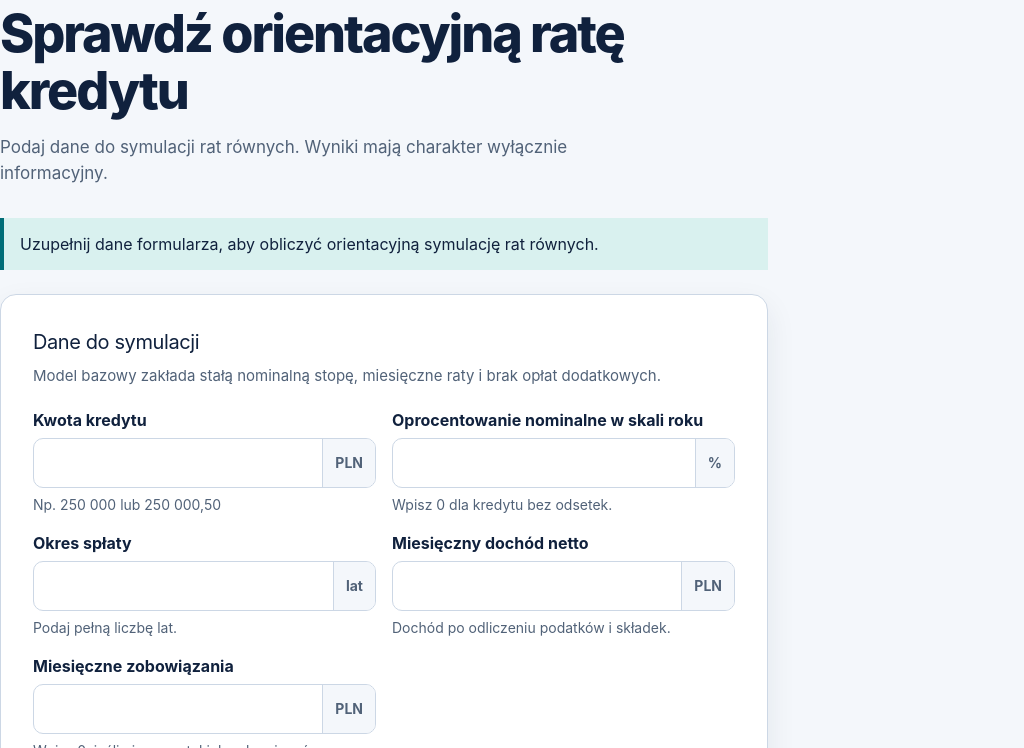
Test case: LoanCalculator › wyświetla sformatowane wyniki i przenosi fokus do ich nagłówka
Type "120000" into the field labelled "Kwota kredytu" at (178, 463), box [34,439,322,487]
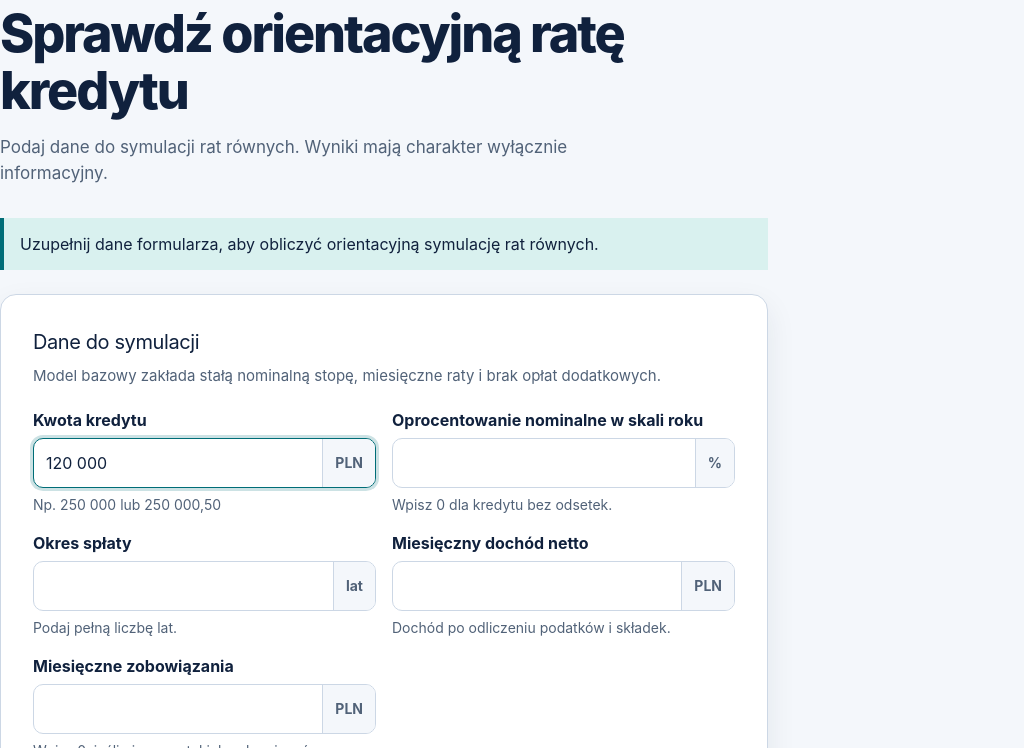
Type "6" into the field labelled "Oprocentowanie nominalne w skali roku" at (544, 463), box [393,439,695,487]
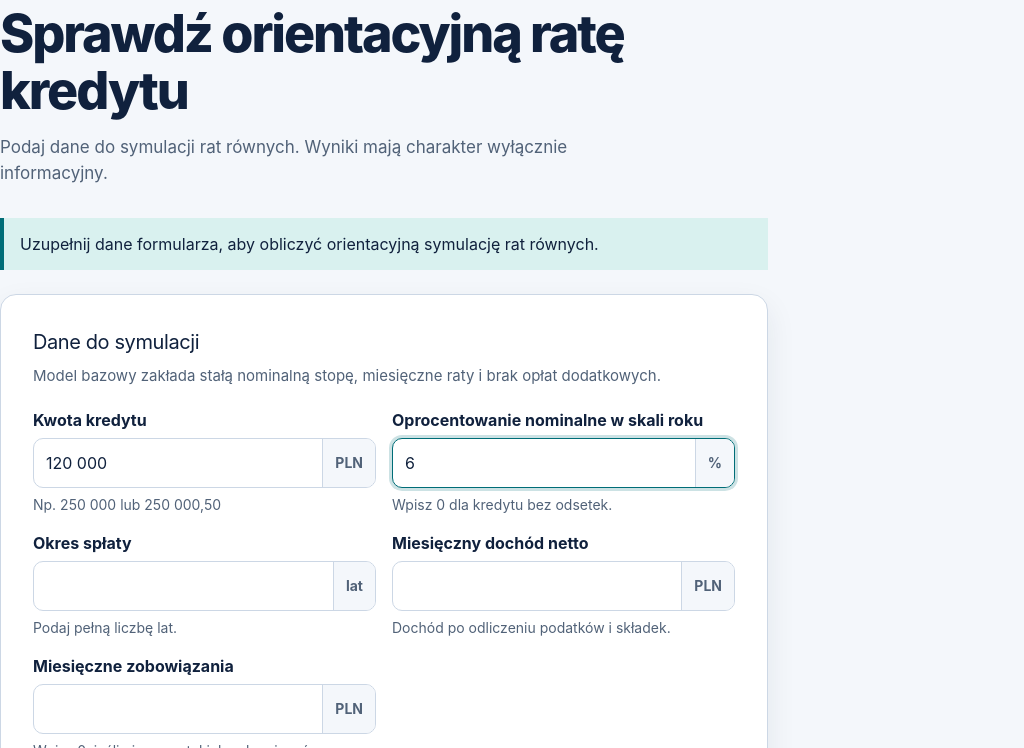
Type "1" into the field labelled "Okres spłaty" at (183, 586), box [34,562,333,610]
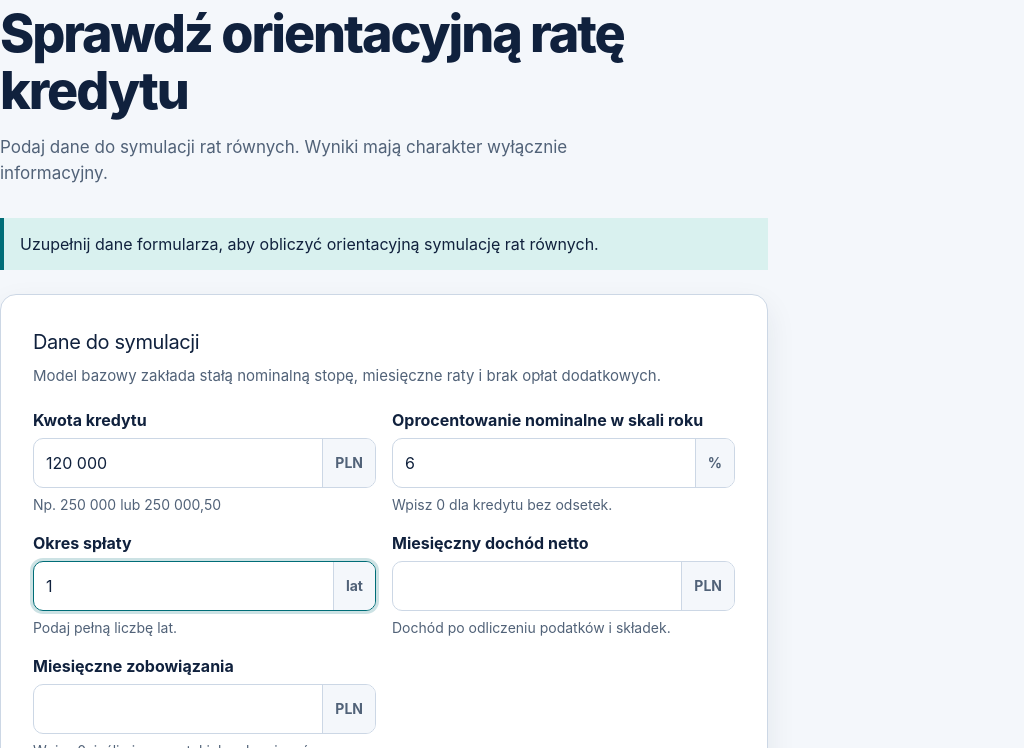
Type "10000" into the field labelled "Miesięczny dochód netto" at (537, 586), box [393,562,681,610]
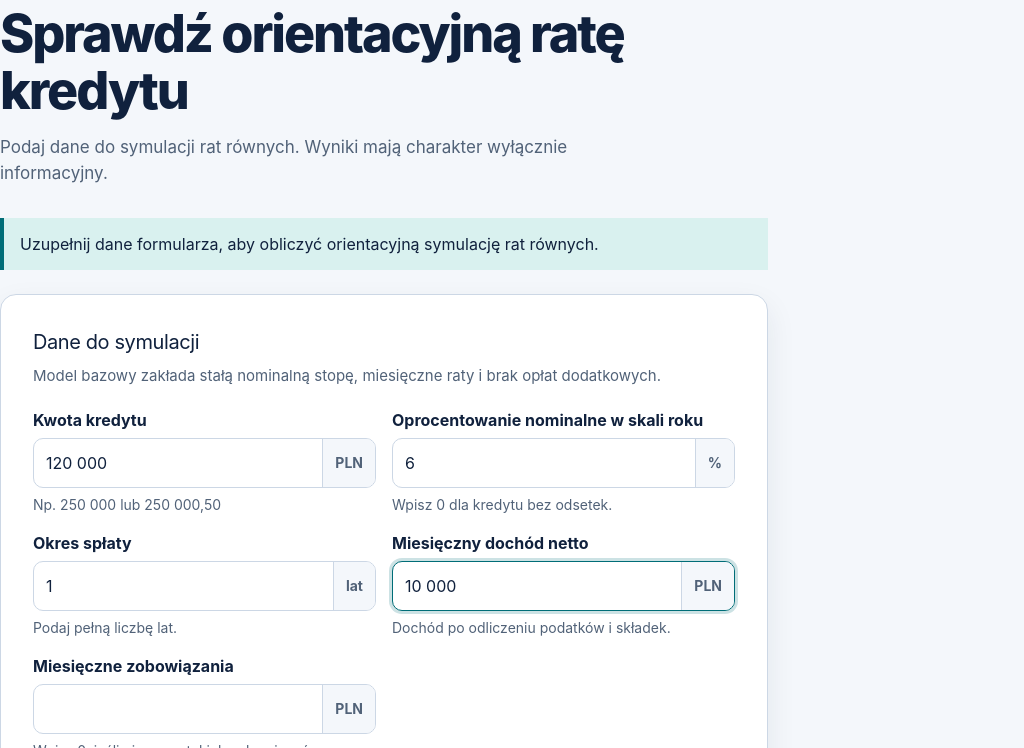
Type "1000" into the field labelled "Miesięczne zobowiązania" at (178, 709), box [34,685,322,733]
(page scrolled)
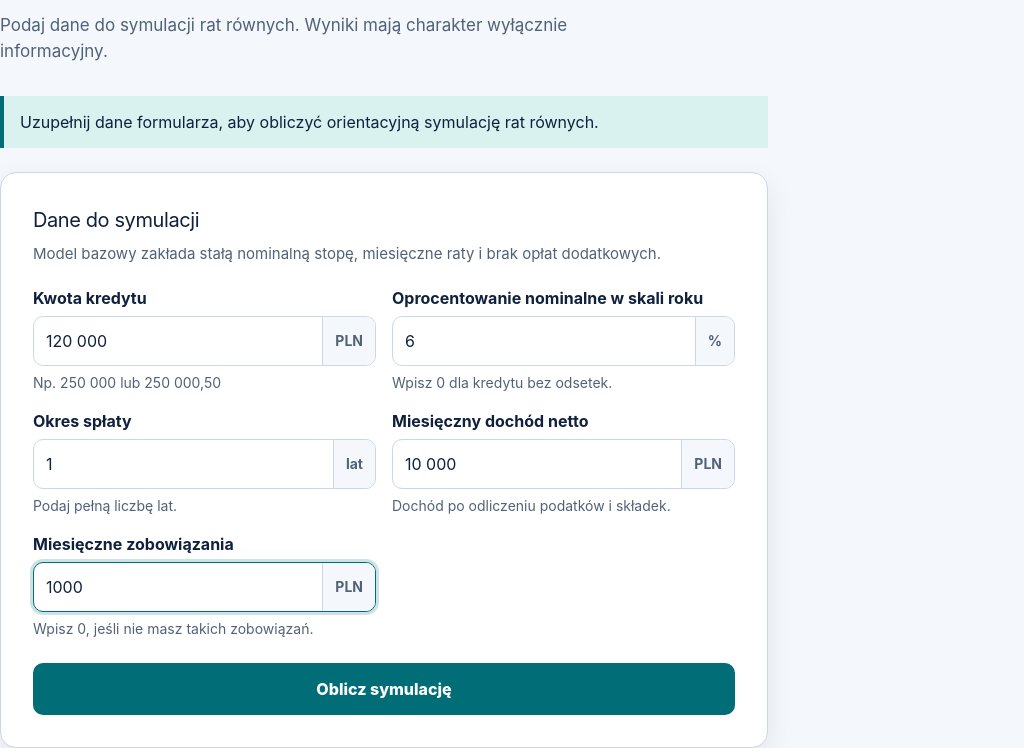
Click the button "Oblicz symulację" at (384, 689), box [33,663,735,715]
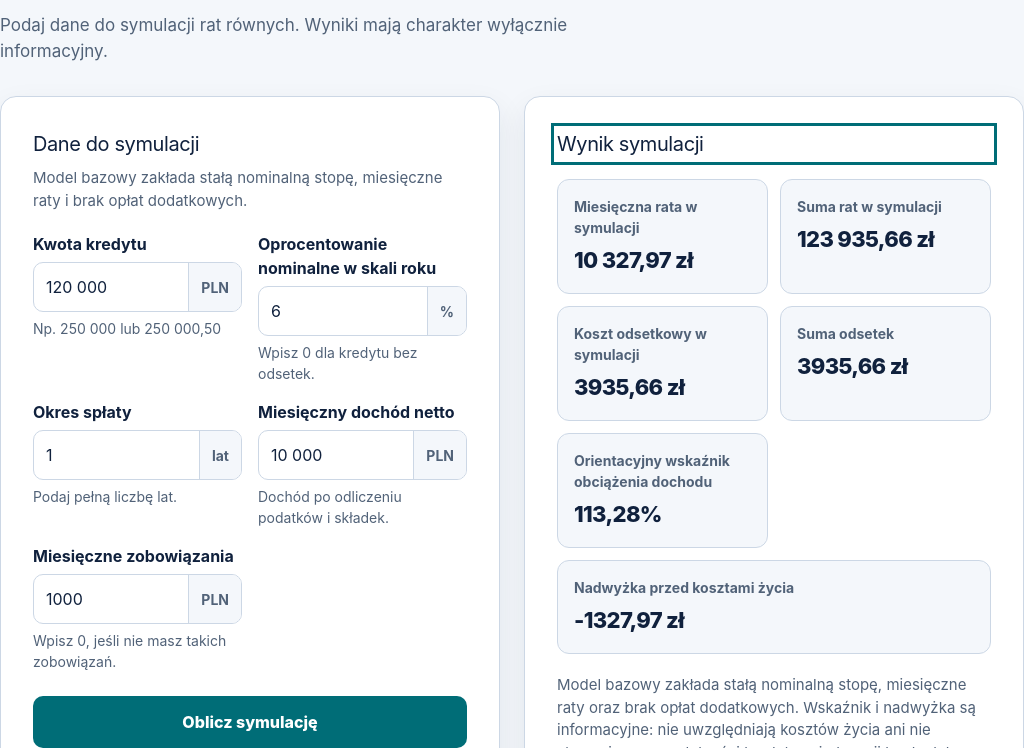
Result: the message "Uzupełnij dane formularza, aby obliczyć orientacyjną symulację rat równych." is gone
Result: the text "113,28%" is shown at [574,501,662,527]
